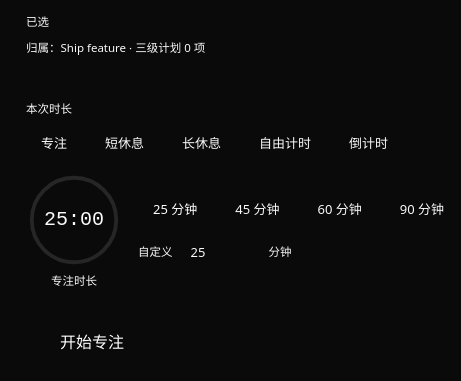
Scenario: SessionLauncher › disables the start button while a start is pending and submits only once
The width and height of the screenshot is (461, 381).
Click the button with aria-label "Start focus session".
click(92, 342)  # box x1=12 y1=320 x2=172 y2=364
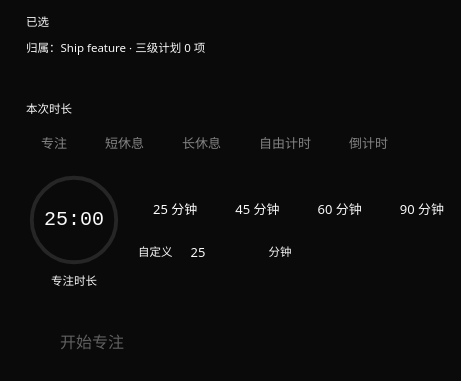
Now the button with aria-label "Start focus session" is disabled
Click the button with aria-label "Start focus session".
click(92, 342)  # box x1=12 y1=320 x2=172 y2=364
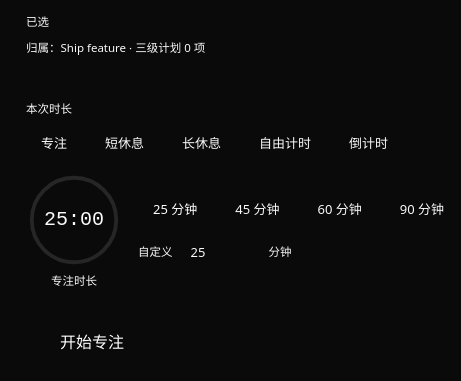
Now the button with aria-label "Start focus session" is enabled, box x1=12 y1=320 x2=172 y2=364
